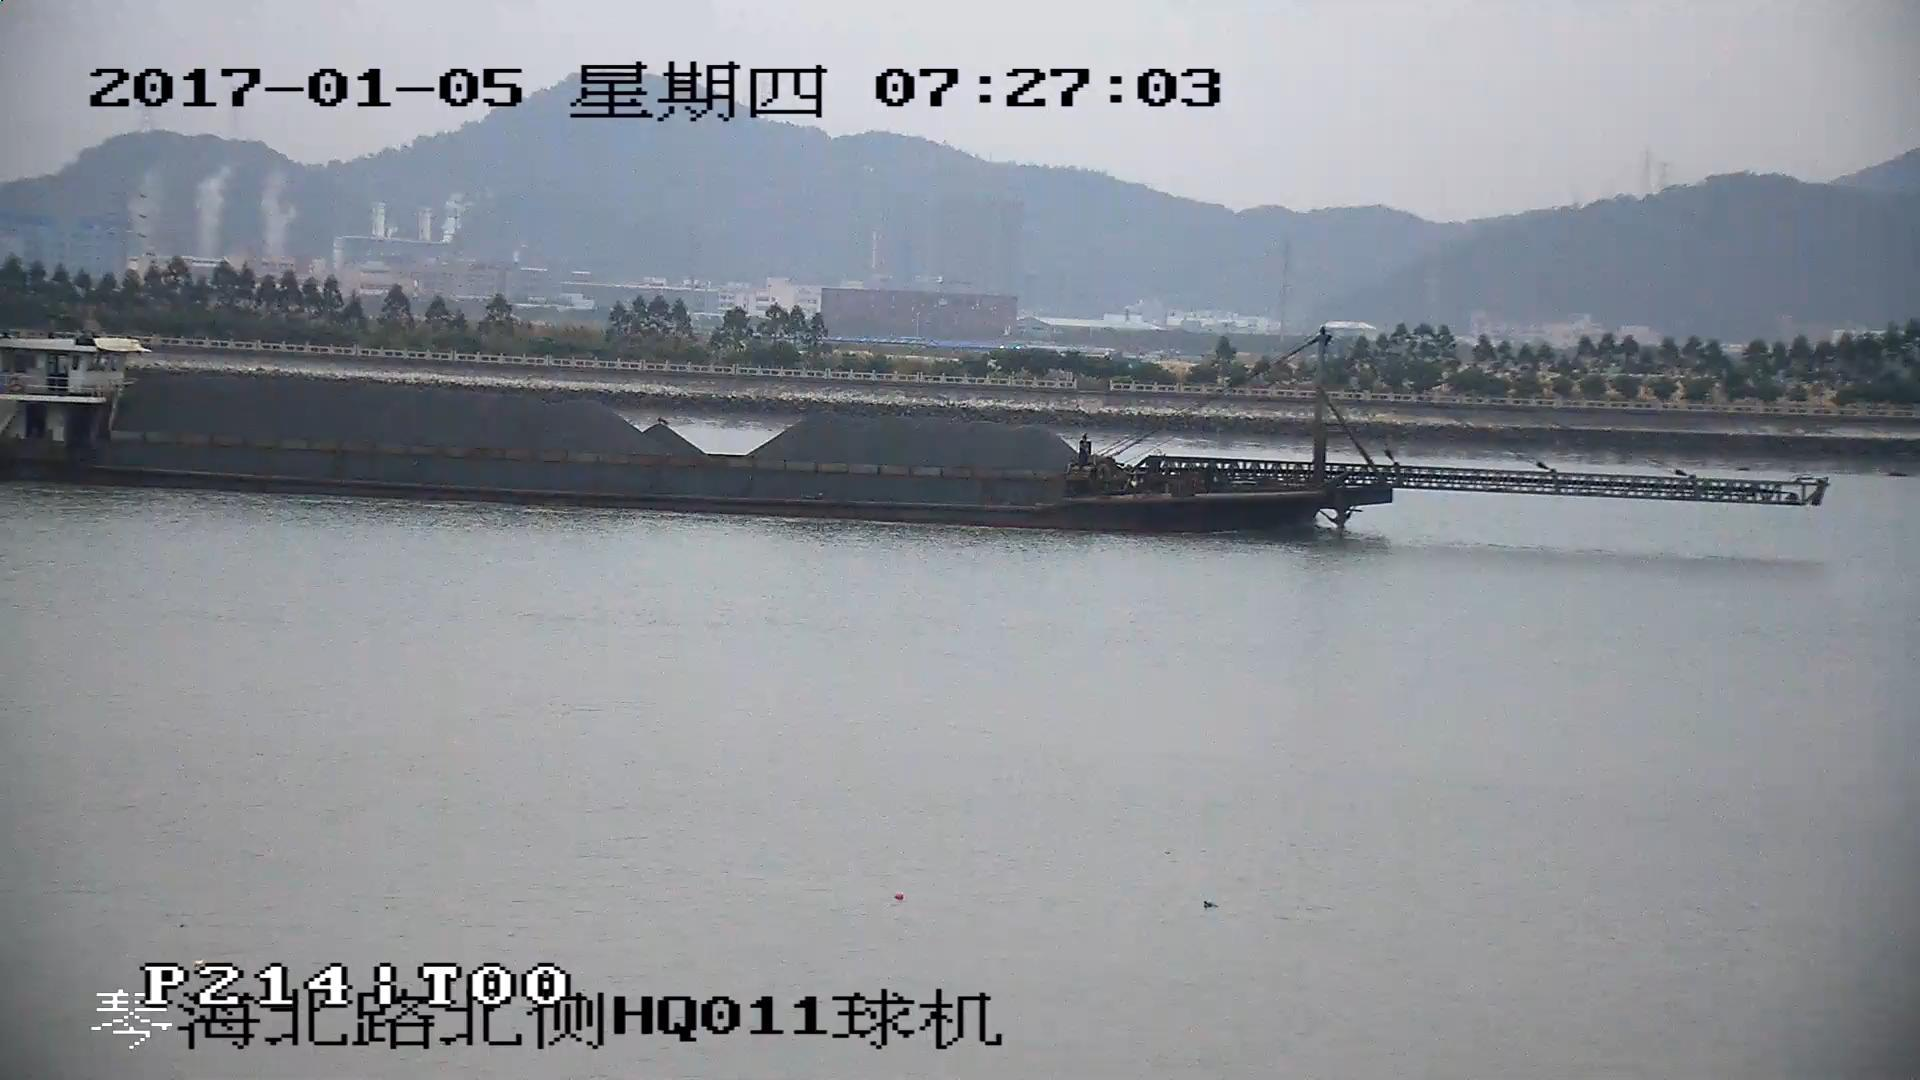Ship: (3, 340, 1817, 521)
